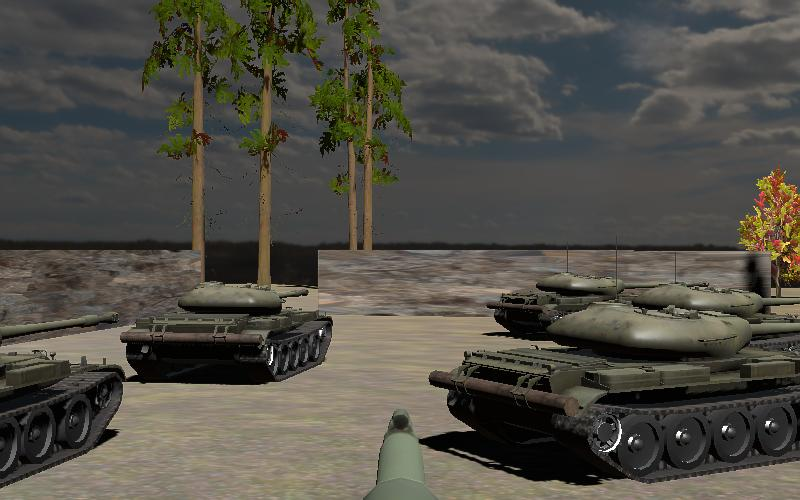Tank: (427, 303, 800, 484), (0, 308, 127, 499), (118, 277, 337, 384), (120, 279, 337, 386), (486, 271, 671, 338)
